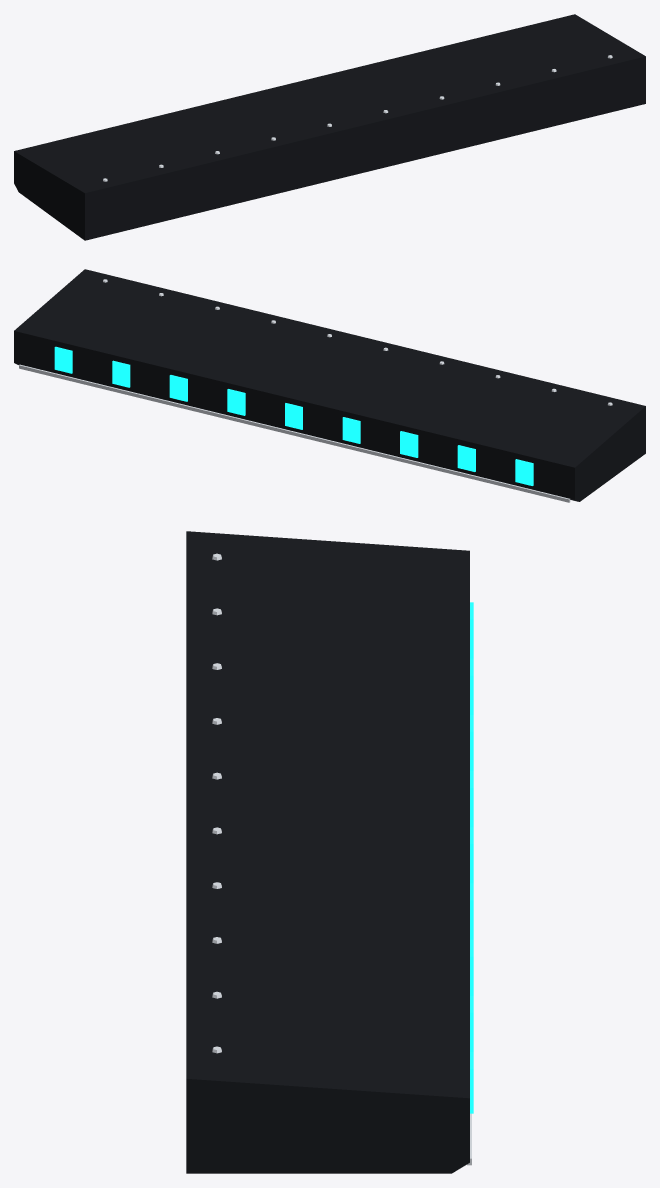
Rendered from visor_dash_short.glb.
3 views of the same model, one above another, from view 1: azimuth 30°, elevation 25°; view 2: azimuth 150°, elevation 25°; view 3: azimuth 270°, elevation 25° (orthographic). The views are drawn at different scales.
Visible parts, largest first — view 1: visor_dash_short_deco_body; view 2: visor_dash_short_deco_body, visor_dash_short_deco_neon, visor_dash_short_chrome; view 3: visor_dash_short_deco_body, visor_dash_short_deco_neon.
Part boxes in pixels (left/top/right/bottom): visor_dash_short_deco_body: left=14, top=14, right=645, bottom=240; visor_dash_short_deco_body: left=14, top=269, right=645, bottom=501; visor_dash_short_deco_neon: left=54, top=346, right=533, bottom=485; visor_dash_short_chrome: left=19, top=279, right=612, bottom=502; visor_dash_short_deco_body: left=186, top=531, right=469, bottom=1173; visor_dash_short_deco_neon: left=470, top=602, right=473, bottom=1113.
Bounding box in the file's own units: 2.1 × 0.1755 × 0.466.
